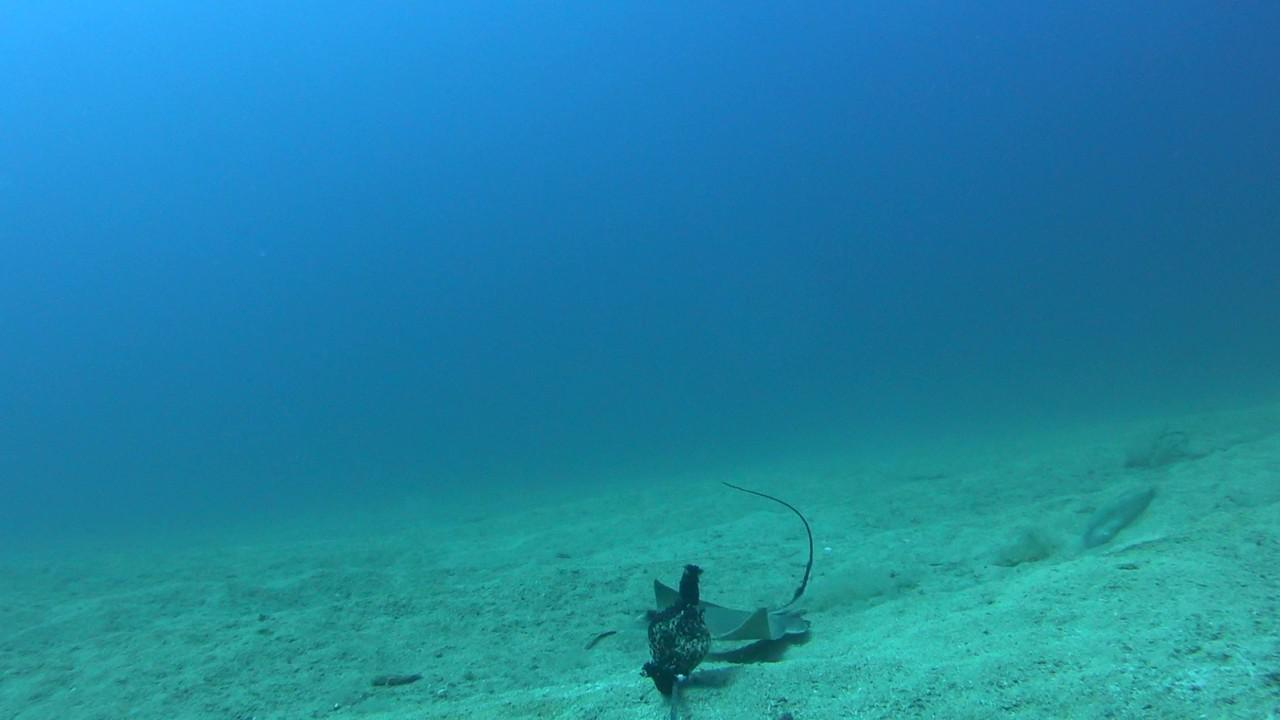myliobatis: (621, 452, 867, 658)
raor: (1084, 485, 1156, 554)
